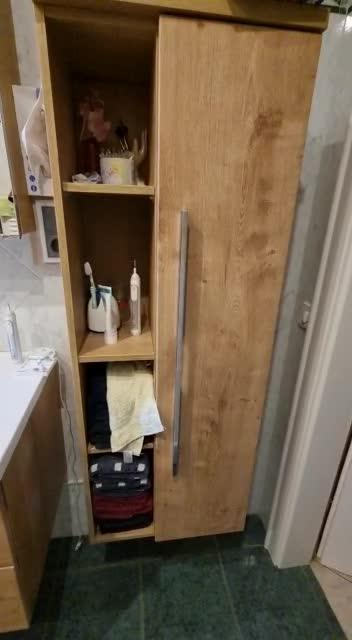cabinet_door: (159, 25, 280, 534)
handle: (167, 203, 188, 480)
